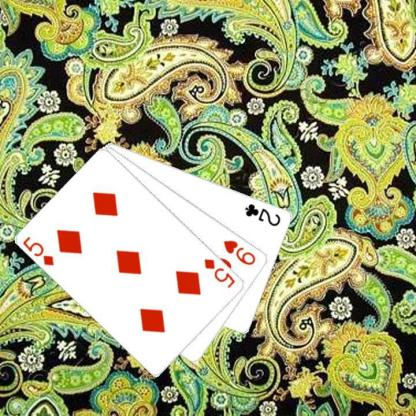2C: (242, 201, 283, 228)
5D: (20, 234, 56, 268), (202, 256, 237, 289)
9H: (221, 237, 257, 267)
